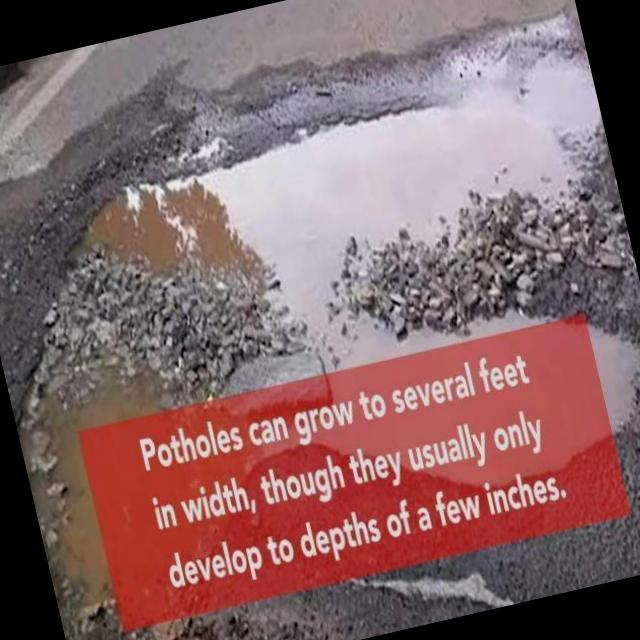Pathole: (13, 99, 575, 616)
